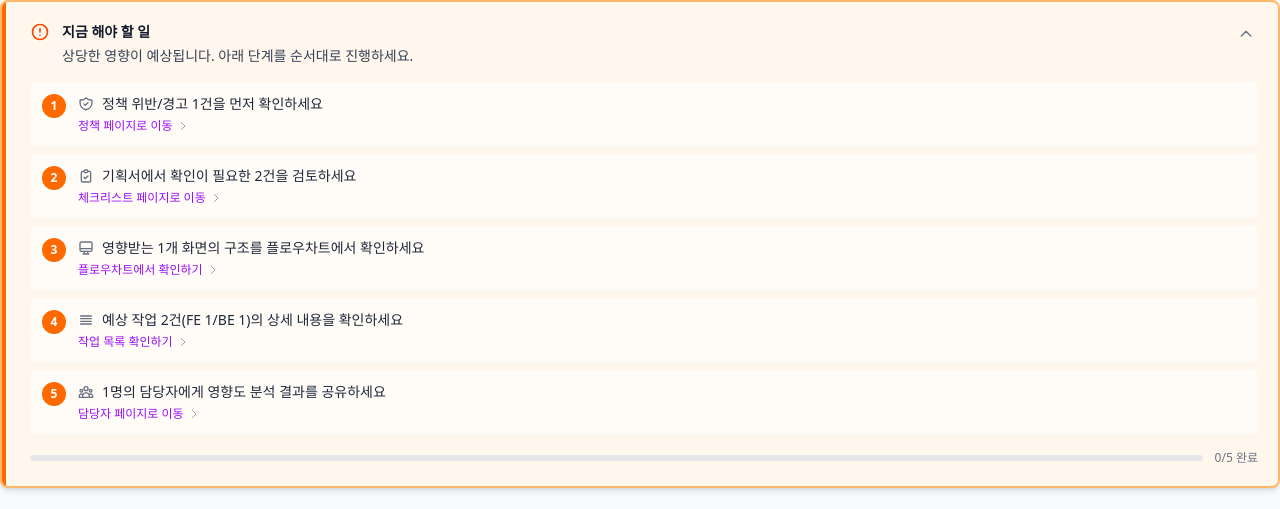
ActionGuide › 접기/펼치기 › 접기 버튼 클릭 시 접힌 상태가 된다
Click the button with test id "collapse-toggle": (1246, 34) [1234,22,1258,46]
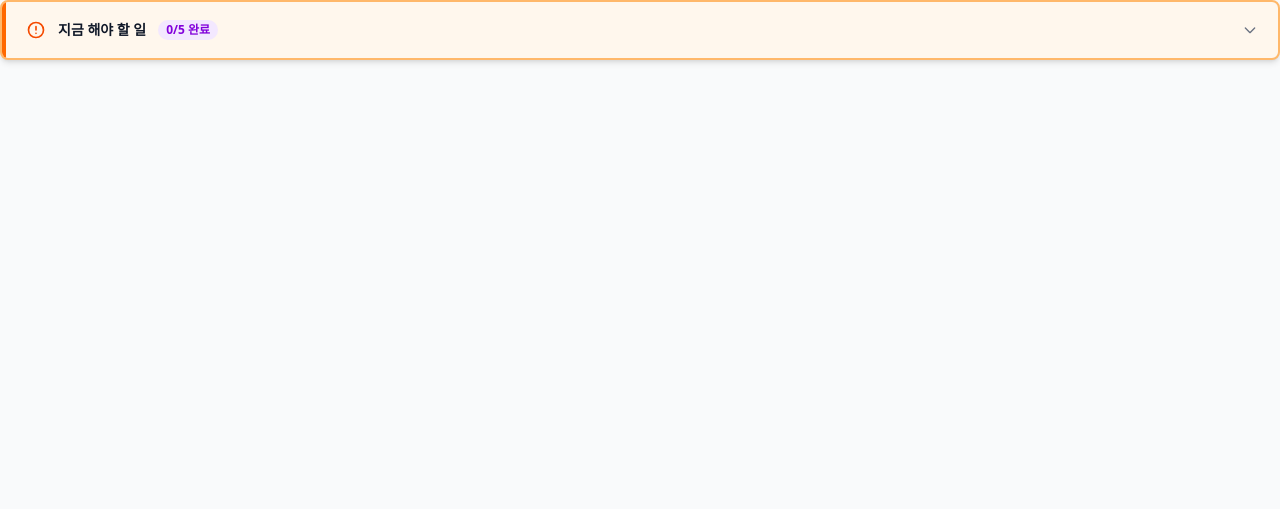
Expected: the element with test id "step-list" is gone
Expected: the element with test id "progress-section" is gone
